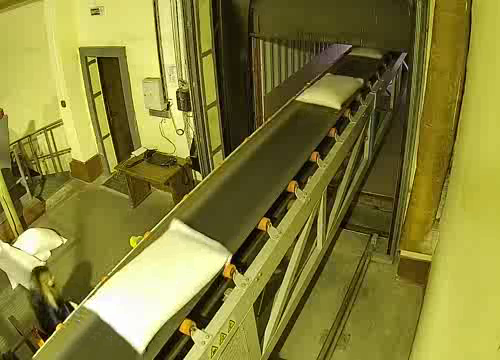bag: (73, 216, 247, 358), (289, 71, 373, 117), (343, 43, 388, 59)
